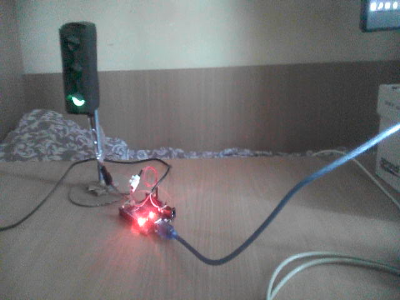trafficlight_green: (61, 27, 92, 112)
